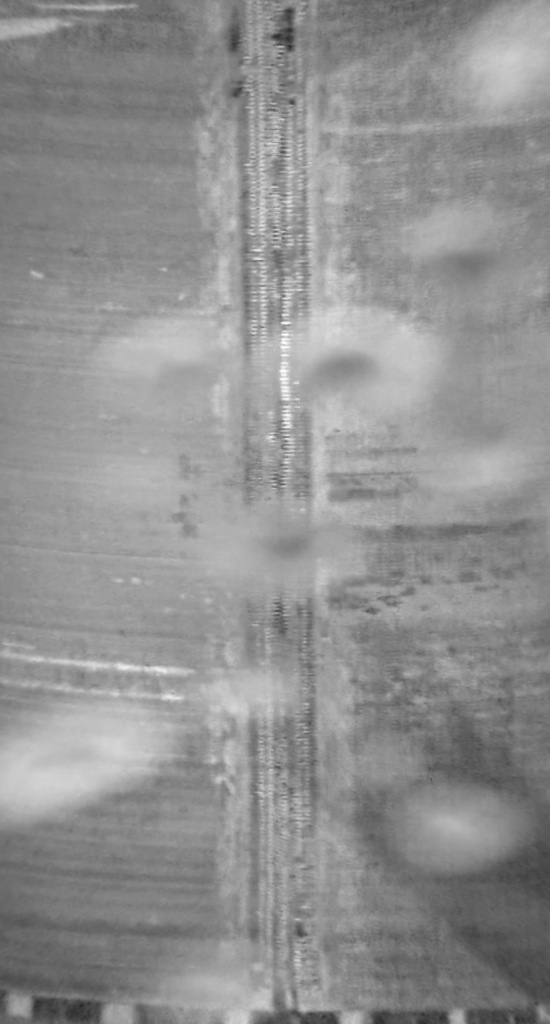splice: (227, 1, 314, 1024)
